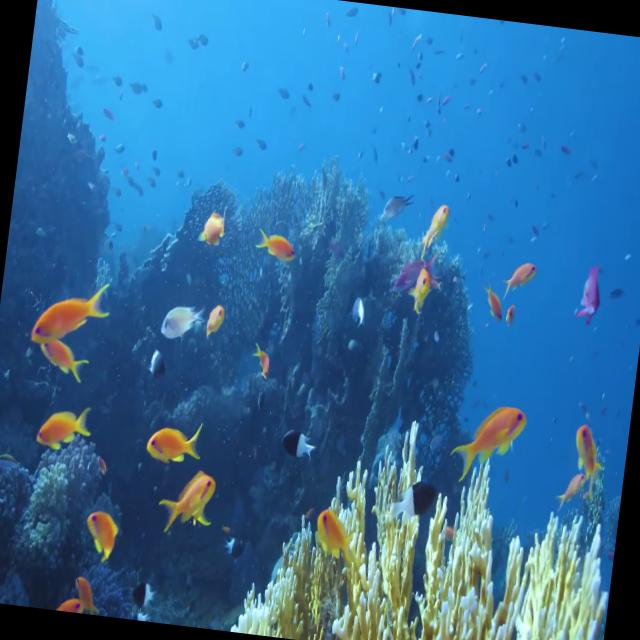fish: (451, 387, 538, 489), (32, 258, 116, 345), (150, 458, 214, 542), (566, 400, 616, 498), (144, 409, 208, 472), (378, 470, 439, 530), (36, 324, 100, 378), (250, 219, 314, 270), (82, 500, 126, 566), (188, 197, 231, 264), (311, 499, 354, 565), (575, 252, 613, 326), (242, 321, 284, 387), (402, 261, 447, 321), (413, 190, 452, 258), (51, 394, 98, 447), (499, 237, 542, 294), (276, 416, 327, 462), (552, 456, 592, 512), (74, 564, 104, 615), (480, 281, 512, 328)
